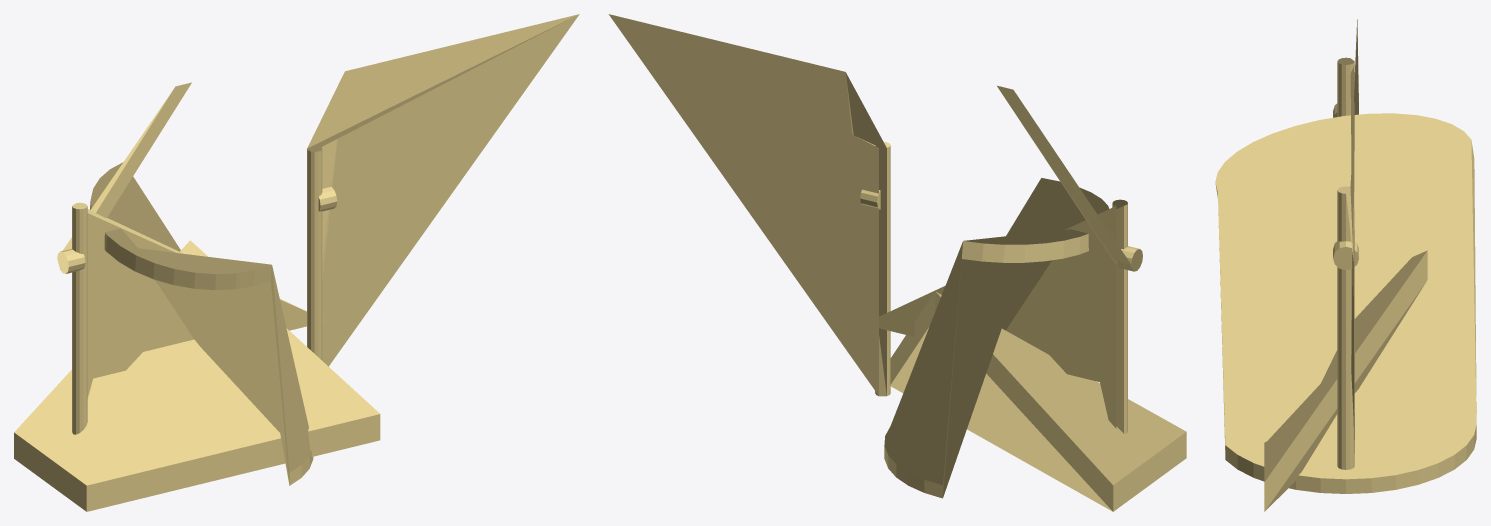
File: SM_Prop_VanityMirror_01.glb
3 renders of one model, left to right at view 1: azimuth 30°, elevation 25°; view 2: azimuth 150°, elevation 25°; view 3: azimuth 270°, elevation 25°, orthographic. The views are drawn at different scales.
Visible parts, largest first — view 1: SM_Prop_VanityMirror_01; view 2: SM_Prop_VanityMirror_01; view 3: SM_Prop_VanityMirror_01.
Boxes of the visible parts, bbox=[...] form: SM_Prop_VanityMirror_01: bbox=[14, 14, 579, 511]; SM_Prop_VanityMirror_01: bbox=[608, 14, 1186, 511]; SM_Prop_VanityMirror_01: bbox=[1215, 19, 1476, 511].
Size of the model in its own units: 0.635 by 0.4215 by 0.2402.
